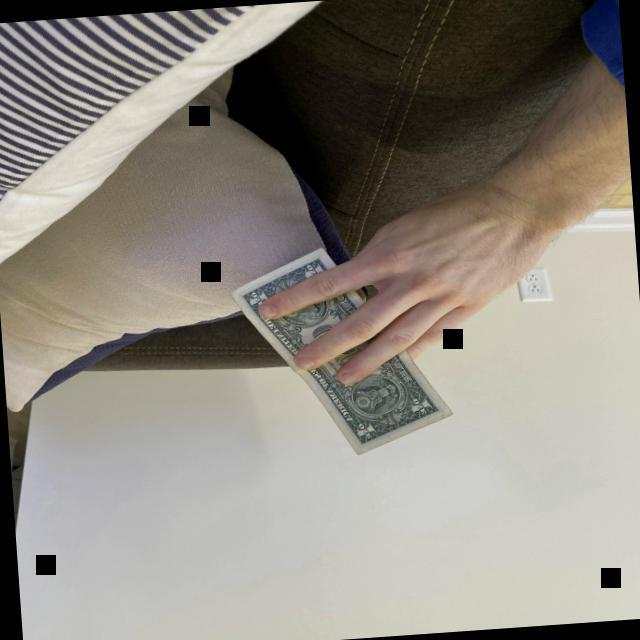one: (225, 243, 456, 453)
